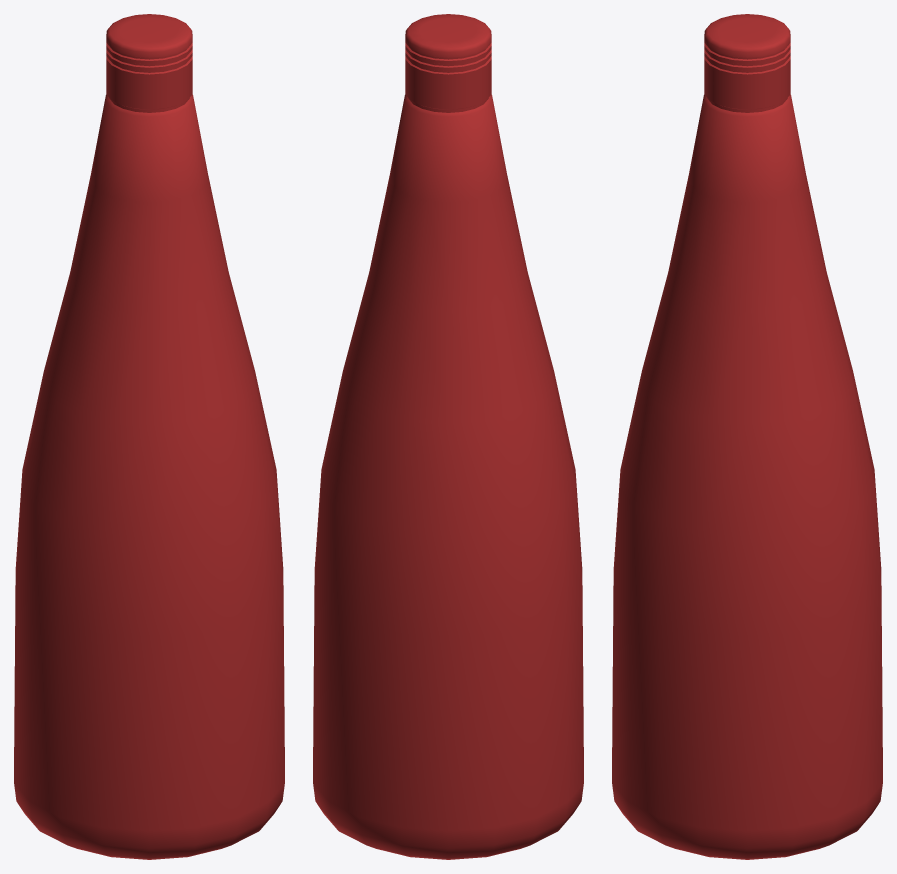
The model's file is mesh_bottle_02.fbx.
The picture shows the model from 3 angles, left to right: view 1: azimuth 30°, elevation 25°; view 2: azimuth 150°, elevation 25°; view 3: azimuth 270°, elevation 25°; orthographic projection.
Parts seen in each view (by area): view 1: mesh_bottle_02; view 2: mesh_bottle_02; view 3: mesh_bottle_02.
Boxes of the visible parts, x1,y1,x2,y2 form: mesh_bottle_02: [14, 14, 284, 859]; mesh_bottle_02: [313, 14, 583, 859]; mesh_bottle_02: [612, 14, 882, 859].
Size of the model in its own units: 6.67 by 20.97 by 6.56.
